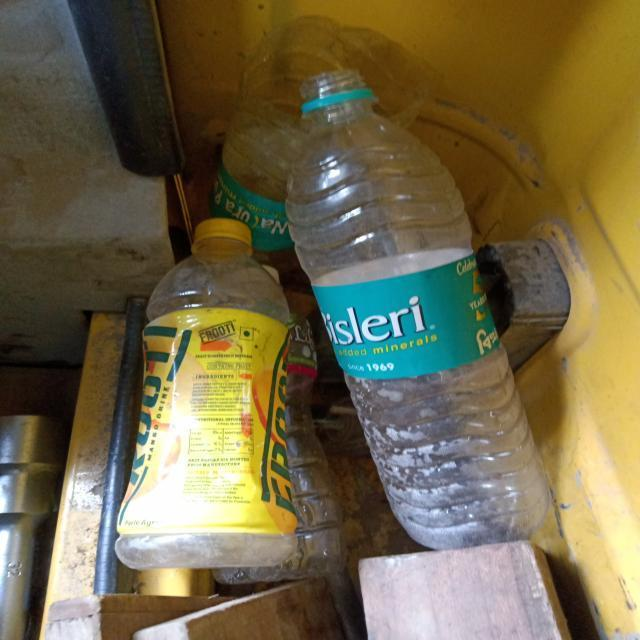plastic_bottle: (285, 73, 552, 552), (115, 217, 298, 570), (208, 20, 428, 263), (214, 264, 344, 585)
